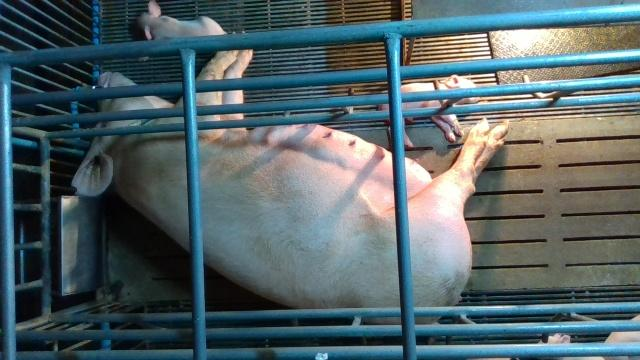piglet: (379, 76, 480, 147), (138, 0, 228, 40)
sow-sleep-lactate: (72, 46, 511, 324)
